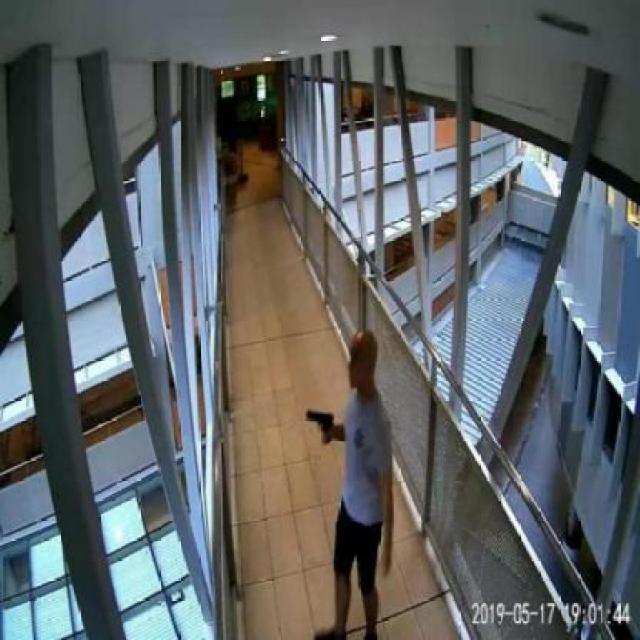gun: (304, 408, 332, 444)
